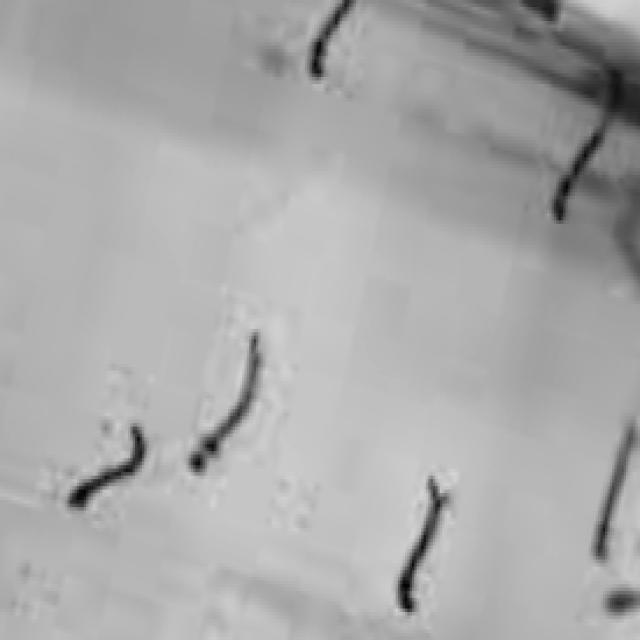larvas: (550, 84, 624, 224), (195, 338, 261, 470), (396, 484, 450, 614), (595, 417, 635, 558), (73, 432, 147, 507), (310, 0, 353, 76)
